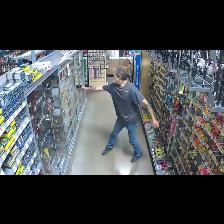person: (81, 66, 159, 162)
